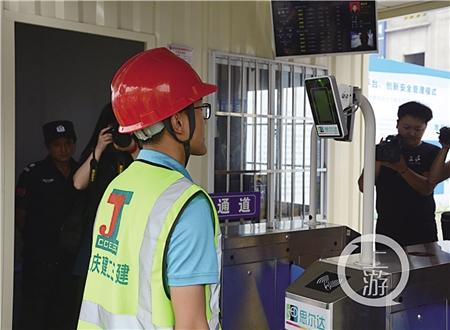helmet: (110, 52, 214, 130)
